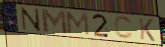2: (92, 13, 111, 38)
C: (113, 15, 135, 41)
K: (138, 17, 157, 43)
M: (39, 8, 69, 36), (65, 11, 91, 37)
N: (20, 6, 42, 33)
